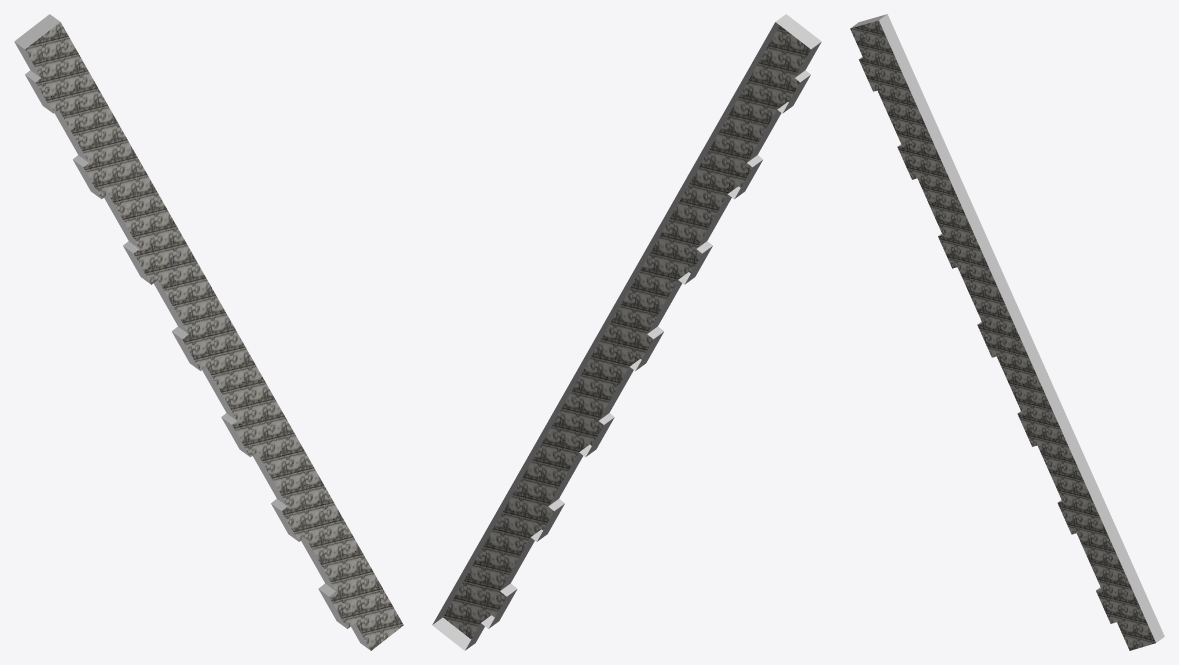
Rendered from geospecific_159.obj.
3 views of the same model, side by side, from view 1: azimuth 30°, elevation 25°; view 2: azimuth 150°, elevation 25°; view 3: azimuth 330°, elevation 25° (orthographic). The views are drawn at different scales.
Visible parts, largest first — view 1: Building; view 2: Building; view 3: Building.
Boxes of the visible parts, bbox=[...] form: Building: bbox=[14, 14, 403, 650]; Building: bbox=[432, 14, 821, 650]; Building: bbox=[850, 14, 1164, 650].
Size of the model in its own units: 60.5 by 108 by 3.
